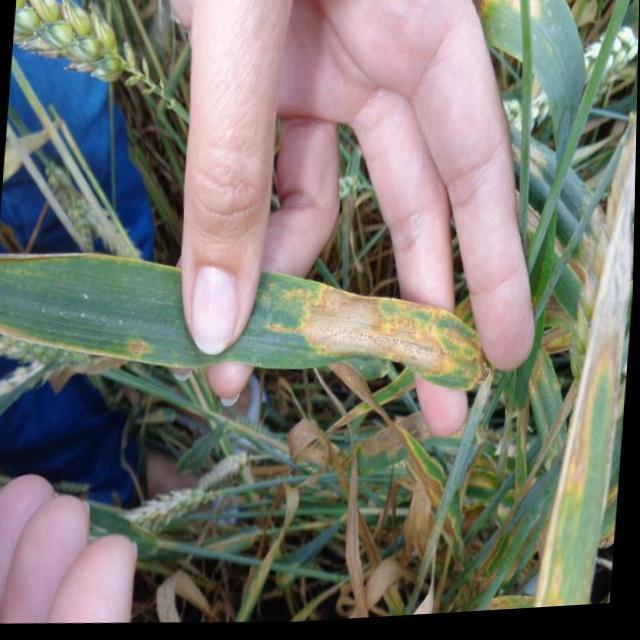Septoria: (0, 253, 494, 397), (536, 114, 636, 613)
